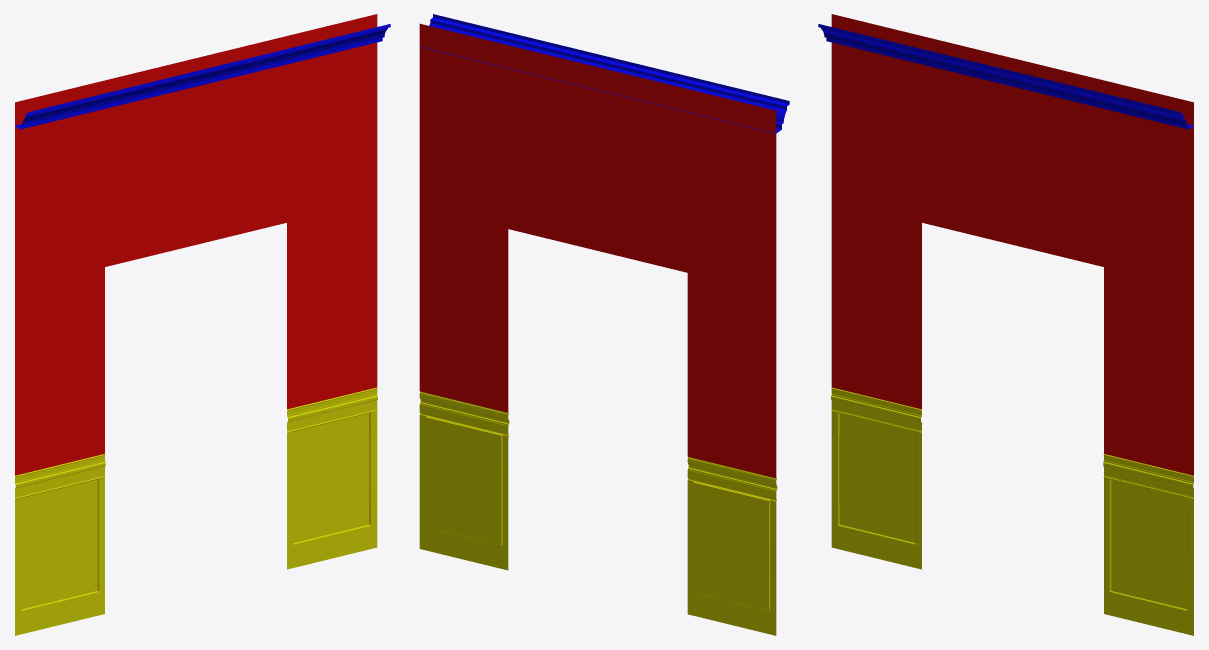
The model's file is Passageway_Door_high.fbx.
3 renders of one model, left to right at view 1: azimuth 30°, elevation 25°; view 2: azimuth 150°, elevation 25°; view 3: azimuth 330°, elevation 25°, orthographic.
Parts seen in each view (by area): view 1: Passageway_Door_high; view 2: Passageway_Door_high; view 3: Passageway_Door_high.
Part boxes in pixels (<box>): Passageway_Door_high: <box>15,14,390,635</box>; Passageway_Door_high: <box>419,14,789,635</box>; Passageway_Door_high: <box>818,14,1193,635</box>.
Size of the model in its own units: 22 by 30.96 by 1.49.
